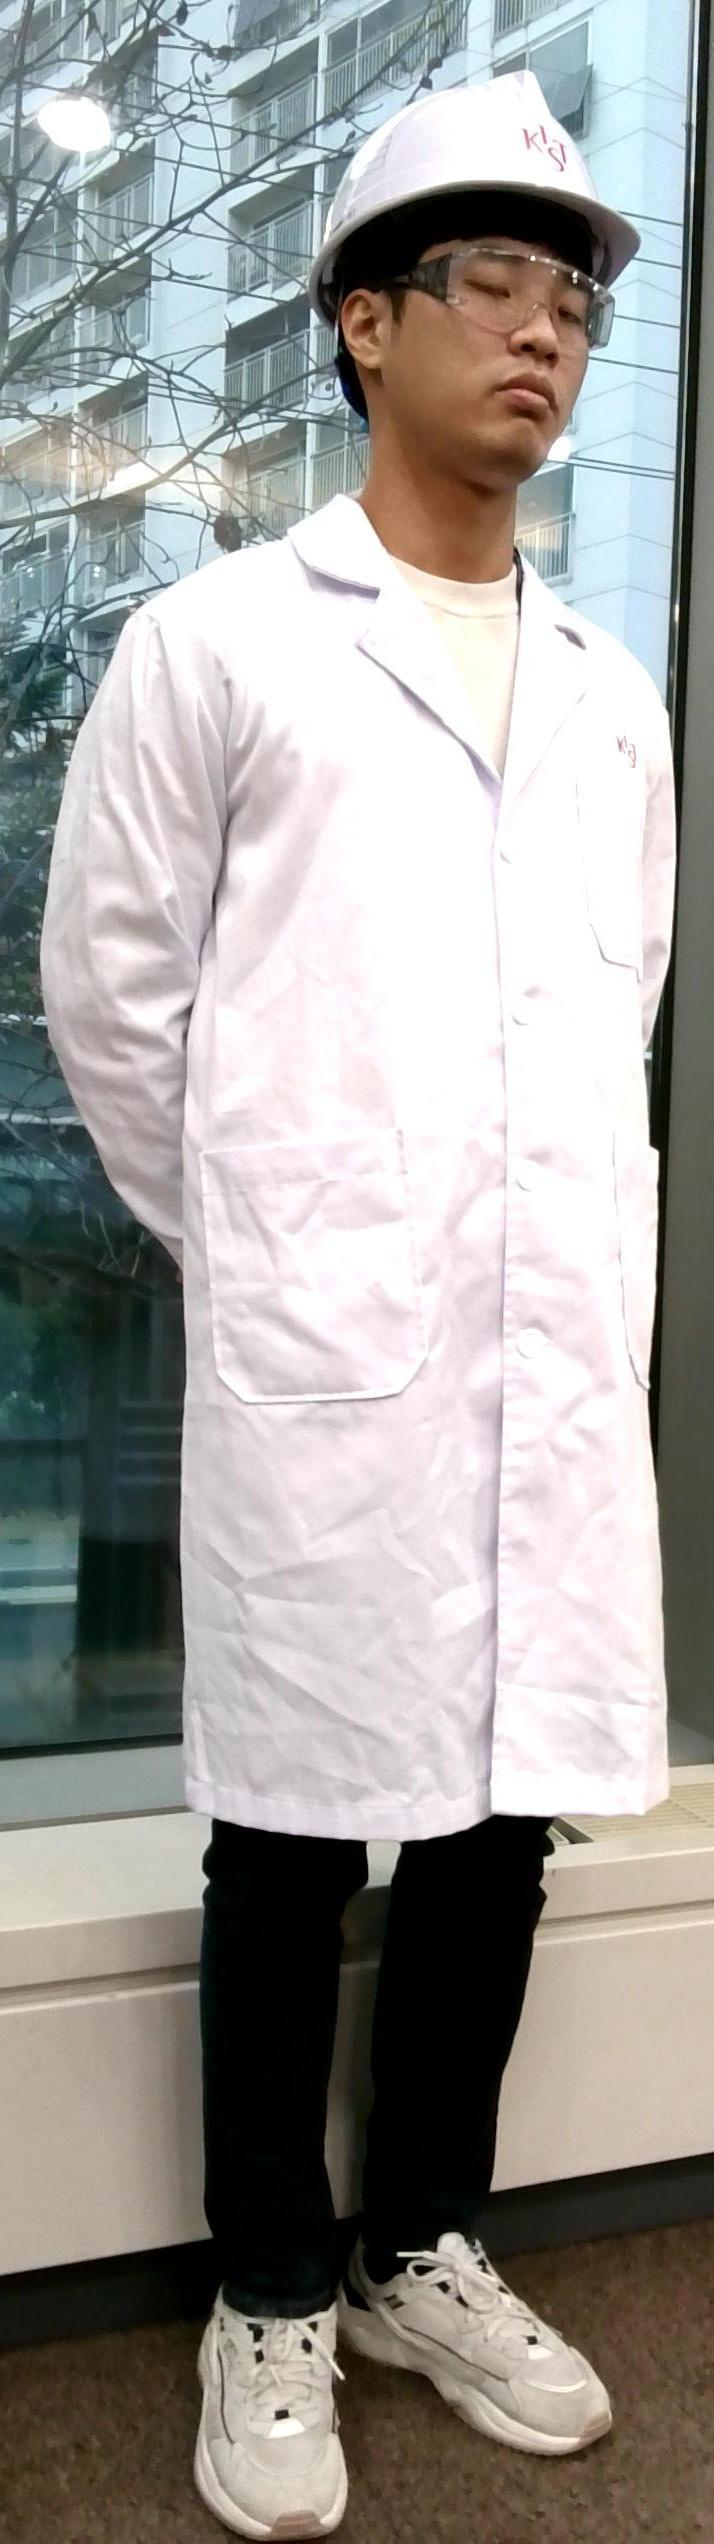lab_coat: (131, 581, 682, 1819)
